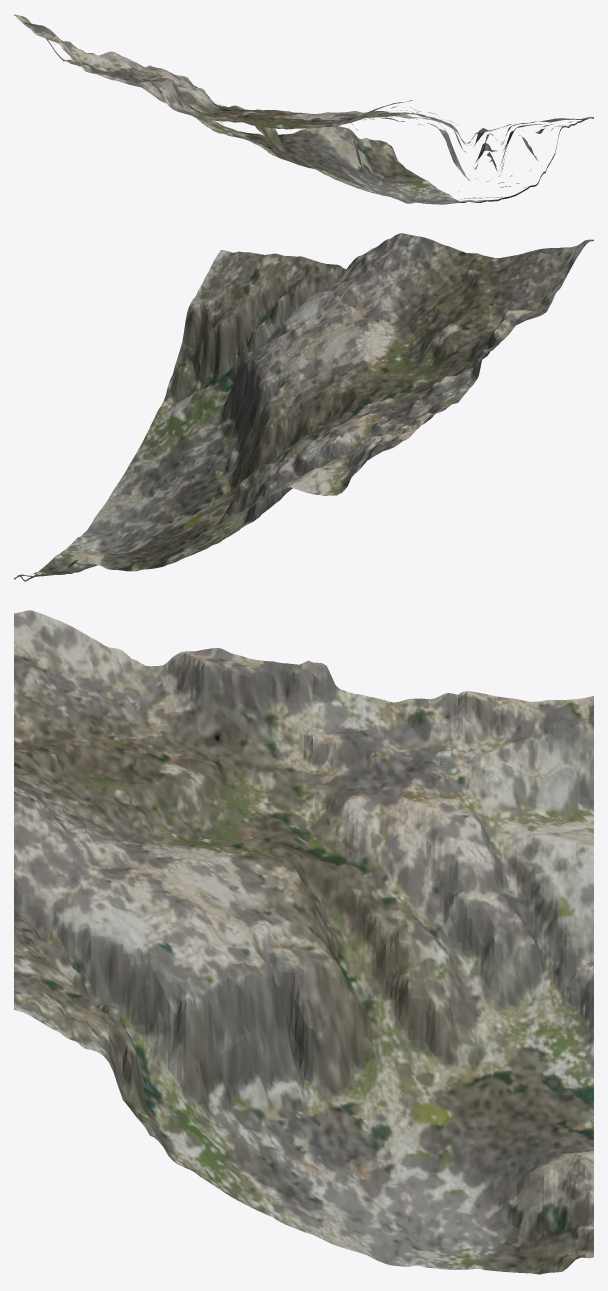
The picture shows the model from 3 angles, top to bottom: view 1: azimuth 30°, elevation 25°; view 2: azimuth 150°, elevation 25°; view 3: azimuth 270°, elevation 25°; orthographic projection. The views are drawn at different scales.
Size of the model in its own units: 250 by 189 by 241.
Materials: 1 (1 with a texture image).
